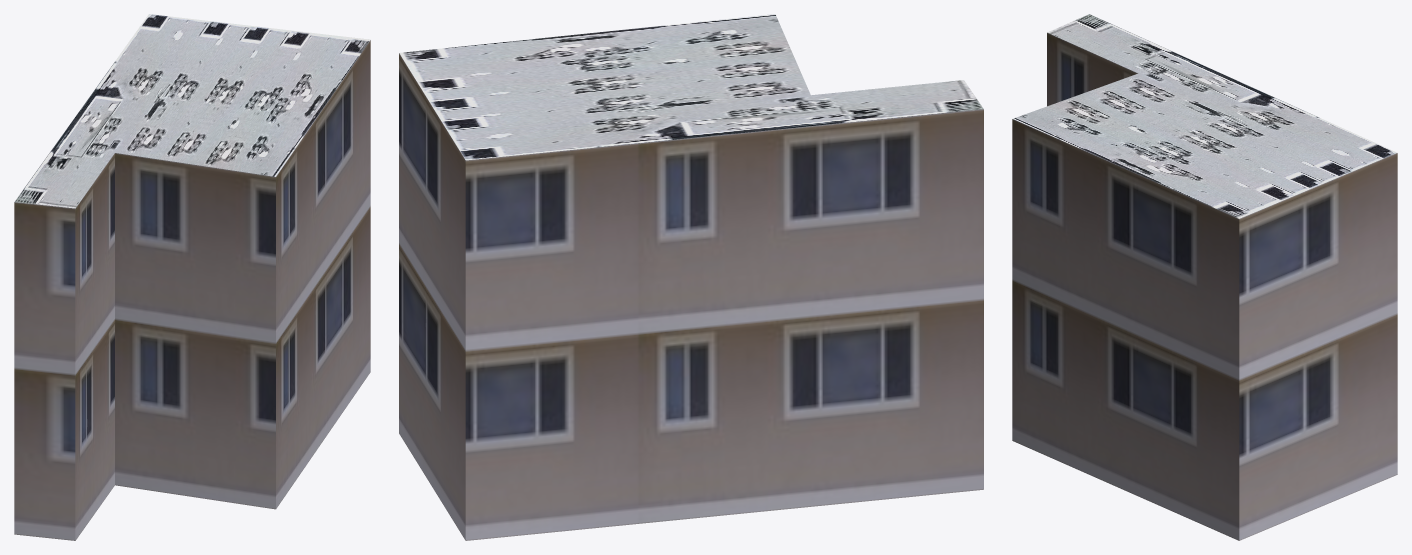
Rendered from ResTex__1464.fbx.
The picture shows the model from 3 angles, left to right: view 1: azimuth 30°, elevation 25°; view 2: azimuth 150°, elevation 25°; view 3: azimuth 270°, elevation 25°; orthographic projection. The views are drawn at different scales.
Visible parts, largest first — view 1: CityEngineMaterial_21_m, CityEngineMaterial_4_m; view 2: CityEngineMaterial_21_m, CityEngineMaterial_4_m; view 3: CityEngineMaterial_21_m, CityEngineMaterial_4_m.
Boxes of the visible parts, bbox=[...] form: CityEngineMaterial_21_m: bbox=[14, 40, 370, 540]; CityEngineMaterial_4_m: bbox=[14, 14, 370, 208]; CityEngineMaterial_21_m: bbox=[399, 53, 983, 540]; CityEngineMaterial_4_m: bbox=[399, 14, 983, 160]; CityEngineMaterial_21_m: bbox=[1012, 32, 1397, 540]; CityEngineMaterial_4_m: bbox=[1013, 14, 1397, 218].
Bounding box in the file's own units: 8.19 × 6 × 6.5.
Materials: 2 (2 with a texture image).
